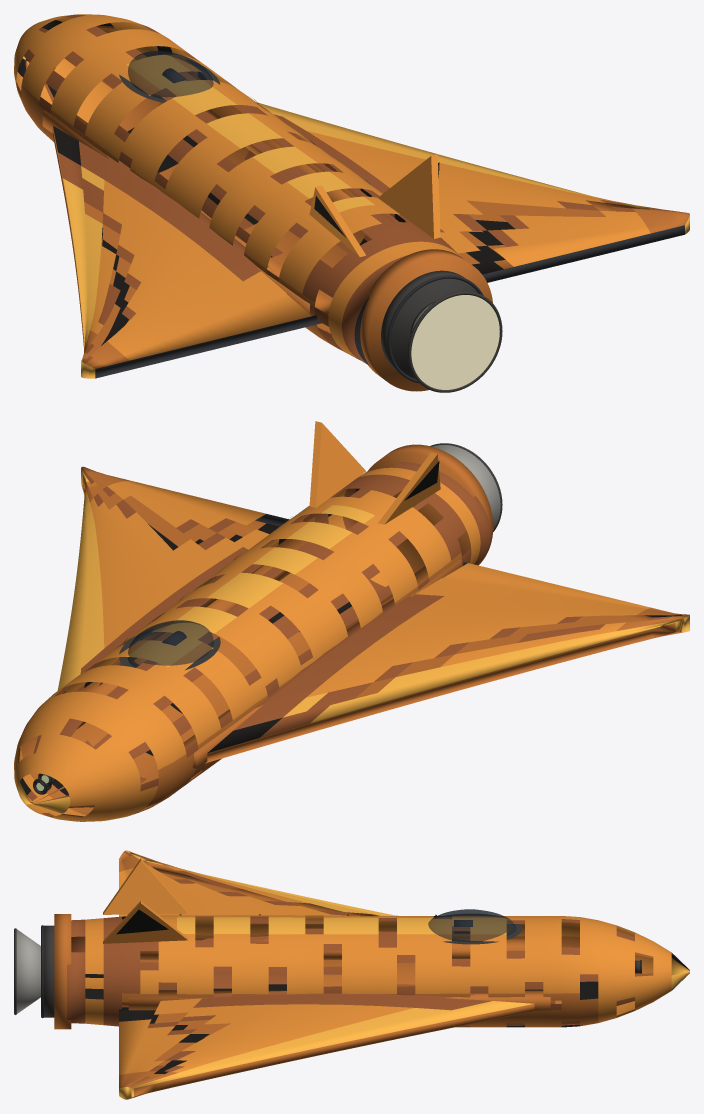
File: Ship_TigerWing_9.glb
3 views of the same model, one above another, from view 1: azimuth 30°, elevation 25°; view 2: azimuth 150°, elevation 25°; view 3: azimuth 270°, elevation 25° (orthographic). The views are drawn at different scales.
Parts seen in each view (by area): view 1: Fuselage_OrganicEllipsoidTaperedBody_BakedPaint, Wing_Left_LongDeltaAerofoil_BakedPaint, Wing_Right_LongDeltaAerofoil_BakedPaint, EngineEmitter, AftCollar_IntegratedSingleEngineBand, EngineBlock_AftDarkSingleEngineHousing, CanopyGlass_LowInsetDome, TailFin_Right_CantedStabilizer, WingRoot_Left_EmbeddedShoulder, TailFin_Left_CantedStabilizer, EngineLip_Center_DarkWideRim, WingRoot_Right_EmbeddedShoulder (+1 smaller); view 2: Fuselage_OrganicEllipsoidTaperedBody_BakedPaint, Wing_Left_LongDeltaAerofoil_BakedPaint, Wing_Right_LongDeltaAerofoil_BakedPaint, AftCollar_IntegratedSingleEngineBand, CanopyGlass_LowInsetDome, TailFin_Right_CantedStabilizer, WingRoot_Left_EmbeddedShoulder, TailFin_Left_CantedStabilizer, EngineBell_Center_BroadBurnishedNozzle, WingRoot_Right_EmbeddedShoulder, CanopyFrame_DorsalOvalRim; view 3: Fuselage_OrganicEllipsoidTaperedBody_BakedPaint, Wing_Right_LongDeltaAerofoil_BakedPaint, Wing_Left_LongDeltaAerofoil_BakedPaint, TailFin_Left_CantedStabilizer, CanopyGlass_LowInsetDome, AftCollar_IntegratedSingleEngineBand, EngineBell_Center_BroadBurnishedNozzle, WingRoot_Right_EmbeddedShoulder, TailFin_Right_CantedStabilizer, EngineBlock_AftDarkSingleEngineHousing, WingRoot_Left_EmbeddedShoulder, TailFin_Right_BakedTrimPatch (+1 smaller).
Part boxes in pixels (<box>): Fuselage_OrganicEllipsoidTaperedBody_BakedPaint: <box>14,14,459,365</box>; Wing_Left_LongDeltaAerofoil_BakedPaint: <box>52,125,321,378</box>; Wing_Right_LongDeltaAerofoil_BakedPaint: <box>232,102,689,282</box>; EngineEmitter: <box>411,295,499,389</box>; AftCollar_IntegratedSingleEngineBand: <box>360,249,492,391</box>; EngineBlock_AftDarkSingleEngineHousing: <box>381,270,477,378</box>; CanopyGlass_LowInsetDome: <box>128,51,213,99</box>; TailFin_Right_CantedStabilizer: <box>378,154,440,238</box>; WingRoot_Left_EmbeddedShoulder: <box>42,110,330,314</box>; TailFin_Left_CantedStabilizer: <box>309,185,365,256</box>; EngineLip_Center_DarkWideRim: <box>407,291,502,392</box>; WingRoot_Right_EmbeddedShoulder: <box>191,74,372,239</box>; Fuselage_OrganicEllipsoidTaperedBody_BakedPaint: <box>14,462,490,821</box>; Wing_Left_LongDeltaAerofoil_BakedPaint: <box>205,562,689,763</box>; Wing_Right_LongDeltaAerofoil_BakedPaint: <box>57,466,289,690</box>; AftCollar_IntegratedSingleEngineBand: <box>359,444,493,573</box>; CanopyGlass_LowInsetDome: <box>127,620,213,667</box>; TailFin_Right_CantedStabilizer: <box>309,421,365,507</box>; WingRoot_Left_EmbeddedShoulder: <box>183,559,461,768</box>; TailFin_Left_CantedStabilizer: <box>378,452,440,524</box>; EngineBell_Center_BroadBurnishedNozzle: <box>432,445,500,529</box>; WingRoot_Right_EmbeddedShoulder: <box>77,539,307,728</box>; CanopyFrame_DorsalOvalRim: <box>119,629,220,670</box>; Fuselage_OrganicEllipsoidTaperedBody_BakedPaint: <box>67,915,689,1027</box>; Wing_Right_LongDeltaAerofoil_BakedPaint: <box>119,991,555,1099</box>; Wing_Left_LongDeltaAerofoil_BakedPaint: <box>119,850,395,940</box>; TailFin_Left_CantedStabilizer: <box>103,858,188,914</box>; CanopyGlass_LowInsetDome: <box>428,909,516,941</box>; AftCollar_IntegratedSingleEngineBand: <box>54,914,71,1029</box>; EngineBell_Center_BroadBurnishedNozzle: <box>16,929,40,1013</box>; WingRoot_Right_EmbeddedShoulder: <box>128,990,550,1010</box>; TailFin_Right_CantedStabilizer: <box>103,901,188,943</box>; EngineBlock_AftDarkSingleEngineHousing: <box>43,925,54,1017</box>; WingRoot_Left_EmbeddedShoulder: <box>140,938,524,959</box>; TailFin_Right_BakedTrimPatch: <box>116,909,168,934</box>.
Bounding box in the file's own units: 5.91 × 1.68 × 7.13.
